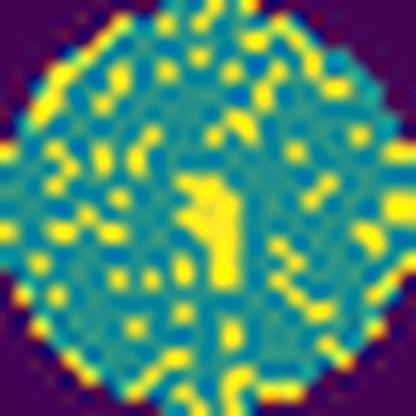Center: (176, 175, 243, 288)
